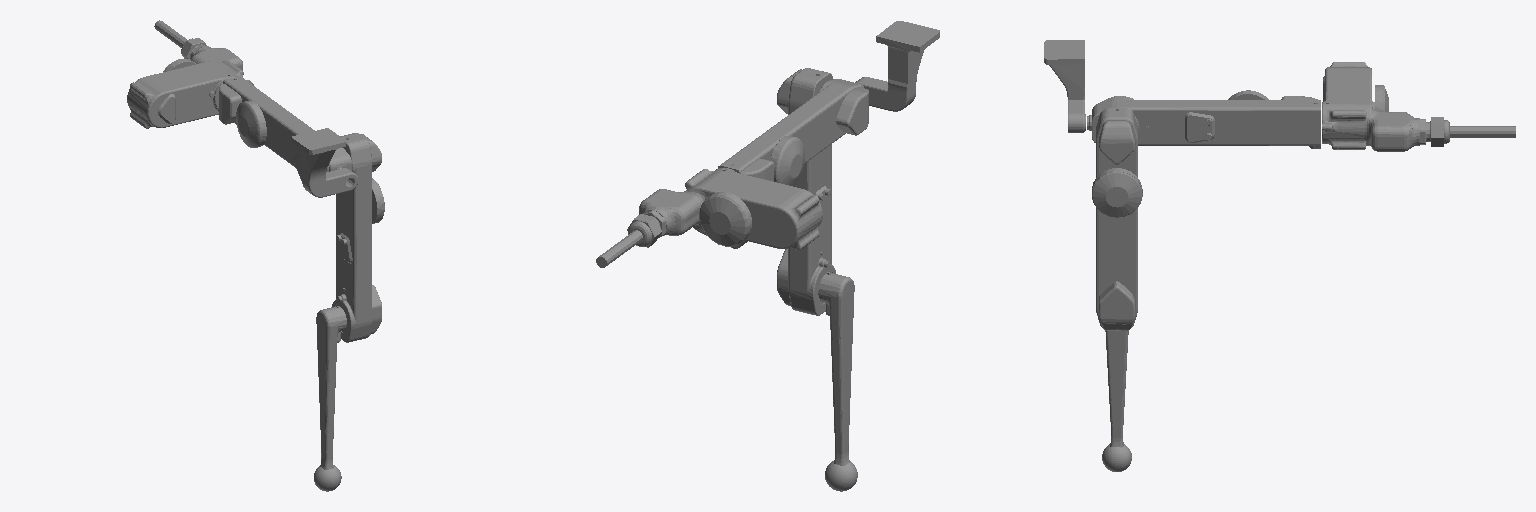
URDF robot description (finger):
<?xml version="1.0" ?>
<!-- =================================================================================== -->
<!-- |    This document was autogenerated by xacro from robot_properties_fingers/xacro/finger.urdf.xacro | -->
<!-- |    EDITING THIS FILE BY HAND IS NOT RECOMMENDED                                 | -->
<!-- =================================================================================== -->
<robot name="finger">
  <!--
    Frames are defined such that they all align with the base frame when all
    joints are at position zero.

    In zero-configuration the origins of all joints are in one line.

    In zero-configuration the origin of the base link is exactly above the
    finger tip which should make it easy to place the finger in the world.
    -->
  <!--
    Frames are defined such that they all align with the base frame when all
    joints are at position zero.

    In zero-configuration the origins of all joints are in one line.

    In zero-configuration the origin of the base link is exactly above the
    finger tip which should make it easy to place the finger in the world.
    -->
  <material name="finger_material">
    <color rgba="0.6 0.6 0.6 1.0"/>
  </material>
  <!--
        Fixed links for the finger base (parts where the upper link is mounted).
        -->
  <link name="finger_base_link">
    <visual>
      <origin rpy="0 0 0" xyz="0 0.179 0"/>
      <geometry>
        <mesh filename="package://robot_properties_fingers/meshes/SIM__BL-Finger_Base.stl" scale="1 1 1"/>
      </geometry>
      <material name="finger_material"/>
    </visual>
    <collision>
      <origin rpy="0 0 0" xyz="0 0.179 0"/>
      <geometry>
        <mesh filename="package://robot_properties_fingers/meshes/SIM__BL-Finger_Base.stl" scale="1 1 1"/>
      </geometry>
    </collision>
    <inertial>
      <origin rpy="0 0 0" xyz="0 0 0"/>
      <mass value="1"/>
      <inertia ixx="0.00041666666666666675" ixy="0" ixz="0" iyy="0.00041666666666666675" iyz="0" izz="0.00041666666666666675"/>
    </inertial>
  </link>
  <!-- base_holder is added in case of single finger -->
  <link name="finger_upper_holder_link">
    <visual>
      <origin rpy="0 0 0" xyz="0 0 0"/>
      <geometry>
        <mesh filename="package://robot_properties_fingers/meshes/BL_Finger_Holder_SIM.stl" scale="1 1 1"/>
      </geometry>
      <material name="finger_material"/>
    </visual>
    <collision>
      <origin rpy="0 0 0" xyz="0 0 0"/>
      <geometry>
        <mesh filename="package://robot_properties_fingers/meshes/BL_Finger_Holder_SIM.stl" scale="1 1 1"/>
      </geometry>
    </collision>
    <!--
                  for some reason this link needs to have some inertia defined,
                  otherwise the model won't show up in gazebo
                -->
    <inertial>
      <origin rpy="0 0 0" xyz="0 0 0"/>
      <mass value="0.5"/>
      <inertia ixx="0.00020833333333333337" ixy="0" ixz="0" iyy="0.00020833333333333337" iyz="0" izz="0.00020833333333333337"/>
    </inertial>
  </link>
  <joint name="finger_base_to_holder" type="fixed">
    <parent link="finger_base_link"/>
    <child link="finger_upper_holder_link"/>
    <origin rpy="0 0 0" xyz="0 -0.02695 0"/>
  </joint>
  <!-- The movable links (upper, middle and lower) of the finger. -->
  <!-- TODO inertia parameters don't look correct, they cant be same for upper and middle! -->
  <link name="finger_upper_link">
    <visual>
      <origin rpy="0 0 0" xyz="0 -0.02695 0"/>
      <geometry>
        <mesh filename="package://robot_properties_fingers/meshes/SIM__BL-Finger_Proximal.stl" scale="1 1 1"/>
      </geometry>
      <material name="finger_material"/>
    </visual>
    <collision>
      <origin rpy="0 0 0" xyz="0 -0.02695 0"/>
      <geometry>
        <mesh filename="package://robot_properties_fingers/meshes/SIM__BL-Finger_Proximal.stl" scale="1 1 1"/>
      </geometry>
    </collision>
    <inertial>
      <origin rpy="0 0 0" xyz="0 0.06 0"/>
      <mass value="0.2"/>
      <inertia ixx="0.0003533333333333334" ixy="0" ixz="0" iyy="5.333333333333333e-05" iyz="0" izz="0.0003533333333333334"/>
    </inertial>
  </link>
  <link name="finger_middle_link">
    <visual>
      <origin rpy="1.5707963267948966 0 0" xyz="0.014 0 0"/>
      <geometry>
        <mesh filename="package://robot_properties_fingers/meshes/SIM__BL-Finger_Intermediate.stl" scale="1 1 1"/>
      </geometry>
      <material name="finger_material"/>
    </visual>
    <collision>
      <origin rpy="1.5707963267948966 0 0" xyz="0.014 0 0"/>
      <geometry>
        <mesh filename="package://robot_properties_fingers/meshes/SIM__BL-Finger_Intermediate.stl" scale="1 1 1"/>
      </geometry>
    </collision>
    <inertial>
      <origin rpy="0 0 0" xyz="0.028 0 -0.08"/>
      <mass value="0.2"/>
      <inertia ixx="0.0003533333333333334" ixy="0" ixz="0" iyy="0.0003533333333333334" iyz="0" izz="5.333333333333333e-05"/>
    </inertial>
  </link>
  <link name="finger_lower_link">
    <visual>
      <origin rpy="1.5707963267948966 0 0" xyz="0.014 0 0"/>
      <geometry>
        <mesh filename="package://robot_properties_fingers/meshes/SIM_BL_FINGER_TIP_LINK.stl" scale="1 1 1"/>
      </geometry>
      <material name="finger_material"/>
    </visual>
    <collision>
      <origin rpy="1.5707963267948966 0 0" xyz="0.014 0 0"/>
      <geometry>
        <mesh filename="package://robot_properties_fingers/meshes/SIM_BL_FINGER_TIP_LINK.stl" scale="1 1 1"/>
      </geometry>
    </collision>
    <visual>
      <origin rpy="0 0 0" xyz="0 0 -0.16"/>
      <geometry>
        <mesh filename="package://robot_properties_fingers/meshes/finger_padding.stl" scale="1 1 1"/>
      </geometry>
      <material name="finger_material"/>
    </visual>
    <collision>
      <origin rpy="0 0 0" xyz="0 0 -0.16"/>
      <geometry>
        <mesh filename="package://robot_properties_fingers/meshes/finger_padding.stl" scale="1 1 1"/>
      </geometry>
    </collision>
    <inertial>
      <origin rpy="0 0 0" xyz="0 0 -0.06"/>
      <mass value="0.01"/>
      <inertia ixx="1.6666666666666667e-05" ixy="0" ixz="0" iyy="1.6666666666666667e-05" iyz="0" izz="6.666666666666667e-07"/>
    </inertial>
  </link>
  <!-- fixed link for finger tip -->
  <link name="finger_tip_link">
    <inertial>
      <origin rpy="0 0 0" xyz="0 0 0"/>
      <mass value="0.002"/>
      <inertia ixx="3.3333333333333334e-08" ixy="0" ixz="0" iyy="3.3333333333333334e-08" iyz="0" izz="3.3333333333333334e-08"/>
    </inertial>
  </link>
  <joint name="finger_lower_to_tip_joint" type="fixed">
    <parent link="finger_lower_link"/>
    <child link="finger_tip_link"/>
    <origin xyz="0 0 -0.16"/>
  </joint>
  <!-- kinematics -->
  <!-- TODO: joint limits are based on values from wiki
        (https://atlas.is.localnet/confluence/display/AMDW/Forward+Kinematics) but
        should be verified on the real system (especially the finger tip limits look
        a bit too big when visualizing the model. -->
  <joint name="finger_base_to_upper_joint" type="revolute">
    <parent link="finger_base_link"/>
    <child link="finger_upper_link"/>
    <limit effort="1000" lower="-1.5707963267948966" upper="1.5707963267948966" velocity="1000"/>
    <axis xyz="0 1 0"/>
    <origin rpy="0 0 0" xyz="0 0 0"/>
  </joint>
  <joint name="finger_upper_to_middle_joint" type="revolute">
    <parent link="finger_upper_link"/>
    <child link="finger_middle_link"/>
    <limit effort="1000" lower="-1.3526301702956054" upper="4.494222823885399" velocity="1000"/>
    <axis xyz="-1 0 0"/>
    <origin rpy="0 0 0" xyz="0 0 0"/>
  </joint>
  <joint name="finger_middle_to_lower_joint" type="revolute">
    <parent link="finger_middle_link"/>
    <child link="finger_lower_link"/>
    <limit effort="1000" lower="-3.001966313430247" upper="3.001966313430247" velocity="1000"/>
    <axis xyz="1 0 0"/>
    <origin rpy="0 0 0" xyz="0 0 -0.16"/>
  </joint>
  <!--
    Define the global base link and place the finger relative to it.
    -->
  <link name="base_link">
    <inertial>
      <origin rpy="0 0 0" xyz="0 0 0"/>
      <mass value="1"/>
      <inertia ixx="4.166666666666667e-06" ixy="0" ixz="0" iyy="4.166666666666667e-06" iyz="0" izz="4.166666666666667e-06"/>
    </inertial>
  </link>
  <joint name="base_to_finger" type="fixed">
    <parent link="base_link"/>
    <child link="finger_base_link"/>
    <origin xyz="0 0 0.34"/>
  </joint>
</robot>

--- Render facts (derived) ---
3 views of the same robot in one strip: view 1: azimuth 30°, elevation 25°; view 2: azimuth 150°, elevation 25°; view 3: azimuth 270°, elevation 25° (orthographic).
Robot: finger — 7 links, 6 joints (3 revolute, 3 fixed); root link base_link; default pose: every joint at zero.
Links seen in each view (by area): view 1: finger_middle_link, finger_base_link, finger_upper_link, finger_lower_link, finger_upper_holder_link; view 2: finger_base_link, finger_upper_link, finger_middle_link, finger_lower_link, finger_upper_holder_link; view 3: finger_upper_link, finger_middle_link, finger_base_link, finger_lower_link, finger_upper_holder_link.
Boxes of the visible links, x1,y1,x2,y2 form: finger_middle_link: [332, 133, 384, 342]; finger_base_link: [127, 20, 253, 128]; finger_upper_link: [219, 76, 351, 180]; finger_lower_link: [314, 306, 346, 491]; finger_upper_holder_link: [291, 128, 357, 197]; finger_base_link: [596, 168, 822, 267]; finger_upper_link: [718, 79, 868, 186]; finger_middle_link: [777, 68, 835, 315]; finger_lower_link: [818, 272, 857, 491]; finger_upper_holder_link: [855, 21, 939, 111]; finger_upper_link: [1087, 90, 1320, 148]; finger_middle_link: [1092, 107, 1142, 330]; finger_base_link: [1322, 62, 1515, 151]; finger_lower_link: [1102, 330, 1131, 471]; finger_upper_holder_link: [1044, 40, 1085, 132].
Size in the robot's own frame: 0.1418 by 0.4084 by 0.3866 metres.
6 mesh visuals loaded from 6 distinct referenced files (6 binary STL).
